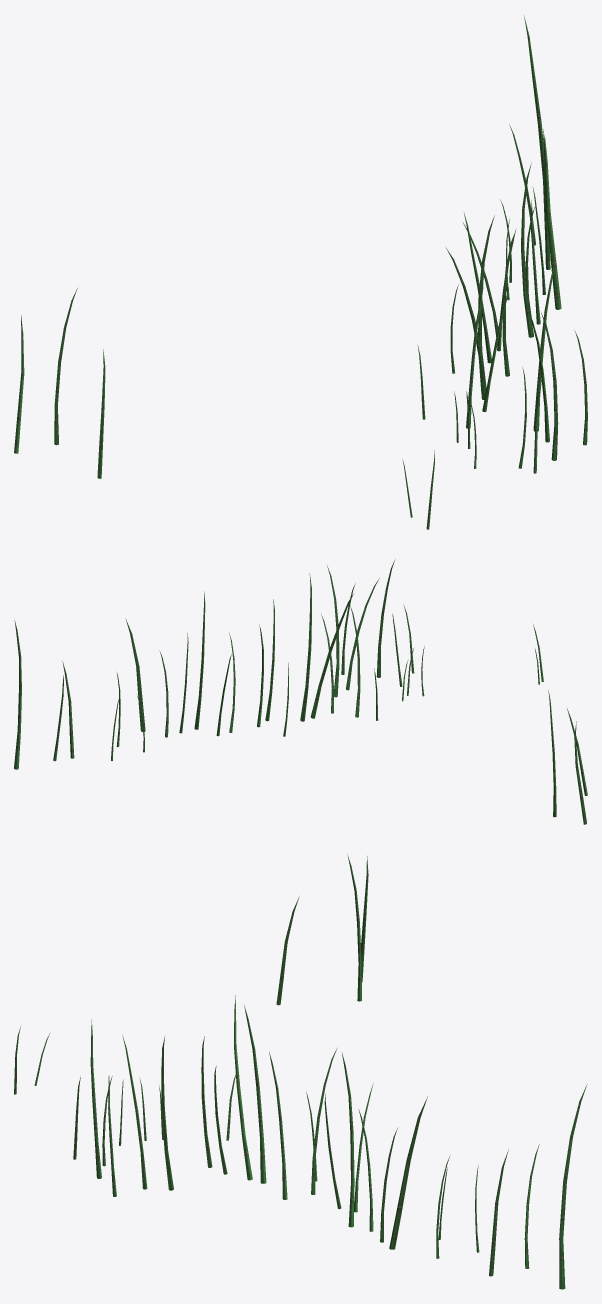
The model's file is Area_11_43.fbx.
The picture shows the model from 3 angles, top to bottom: view 1: azimuth 30°, elevation 25°; view 2: azimuth 150°, elevation 25°; view 3: azimuth 270°, elevation 25°; orthographic projection. The views are drawn at different scales.
Parts seen in each view (by area): view 1: Area_11_43; view 2: Area_11_43; view 3: Area_11_43.
Part boxes in pixels (x1,y1,x2,y2): Area_11_43: [14, 15, 587, 529]; Area_11_43: [14, 559, 587, 824]; Area_11_43: [14, 854, 587, 1289].
Size of the model in its own units: 6667 by 2108 by 5338.
